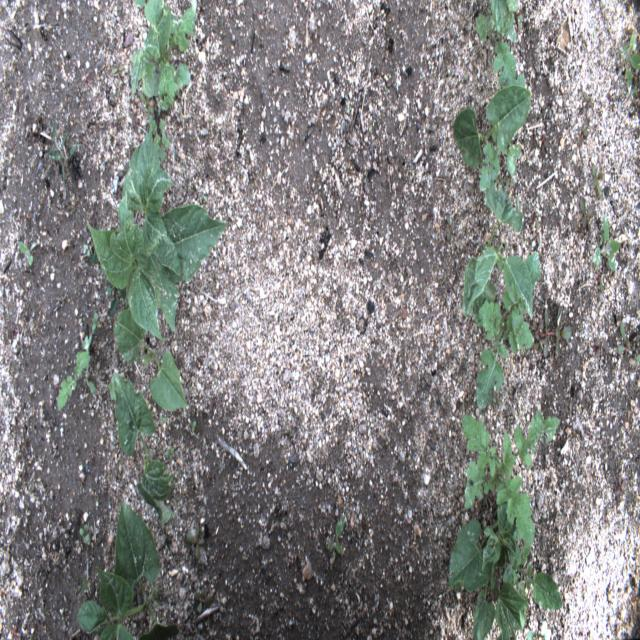crop: (86, 127, 229, 413), (75, 498, 179, 640), (448, 490, 529, 640), (460, 178, 540, 325), (107, 371, 175, 528), (130, 0, 198, 113), (452, 91, 532, 168)
weed: (460, 411, 559, 550), (475, 289, 533, 412), (476, 0, 528, 104), (502, 541, 562, 610), (56, 350, 94, 412), (44, 118, 78, 186), (538, 306, 572, 358), (592, 215, 622, 273), (618, 28, 640, 96), (476, 137, 499, 192), (82, 333, 98, 397), (148, 115, 166, 163), (328, 514, 346, 559), (187, 524, 204, 560), (578, 197, 595, 232), (18, 240, 39, 268), (506, 142, 522, 178), (193, 586, 211, 614), (616, 321, 630, 355), (592, 163, 604, 201), (576, 116, 590, 147), (77, 575, 93, 599), (139, 90, 154, 115), (158, 120, 170, 150), (78, 521, 92, 546), (581, 89, 596, 111), (594, 264, 605, 294), (111, 59, 125, 80), (490, 389, 502, 411), (91, 310, 100, 334), (532, 220, 540, 246), (535, 333, 545, 353), (164, 444, 175, 460), (516, 12, 524, 34), (533, 317, 543, 333), (631, 85, 638, 105), (189, 418, 197, 435), (525, 628, 536, 640), (158, 412, 168, 424), (83, 243, 91, 258), (200, 193, 208, 204), (346, 100, 351, 115), (635, 350, 640, 364)
